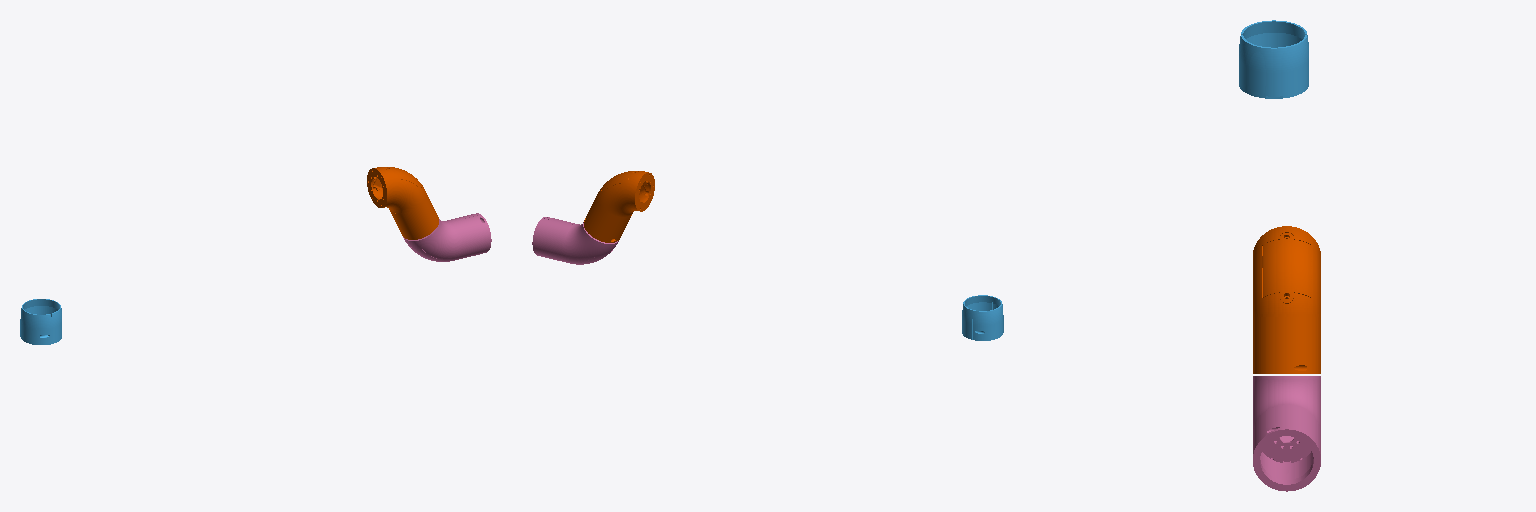
The robot description file, URDF, robot "explorer":
<?xml version="1.0" ?>
<!-- =================================================================================== -->
<!-- |    This document was autogenerated by xacro from description/urdf/explorer.urdf.xacro | -->
<!-- |    EDITING THIS FILE BY HAND IS NOT RECOMMENDED                                 | -->
<!-- =================================================================================== -->
<robot name="explorer">
  <!-- create link fixed to the "world" -->
  <link name="world"/>
  <link name="base_link">
    <visual>
      <origin rpy="0 0 0" xyz="0 0 0"/>
      <geometry>
        <mesh filename="package://ros2_control_explorer/description/meshes/visual/base_link.dae"/>
      </geometry>
    </visual>
    <collision>
      <origin rpy="0 0 0" xyz="0 0 0"/>
      <geometry>
        <mesh filename="package://ros2_control_explorer/description/meshes/collision/base_link.stl"/>
      </geometry>
    </collision>
    <inertial>
      <mass value="1"/>
      <inertia ixx="1.0" ixy="0.0" ixz="0.0" iyy="1.0" iyz="0.0" izz="1.0"/>
    </inertial>
  </link>
  <link name="link_1">
    <visual>
      <origin rpy="0 0 0" xyz="0 0 0"/>
      <geometry>
        <mesh filename="package://ros2_control_explorer/description/meshes/visual/link1.dae"/>
      </geometry>
    </visual>
    <collision>
      <origin rpy="0 0 0" xyz="0 0 0"/>
      <geometry>
        <mesh filename="package://ros2_control_explorer/description/meshes/collision/link1.stl"/>
      </geometry>
    </collision>
    <inertial>
      <mass value="1"/>
      <inertia ixx="1.0" ixy="0.0" ixz="0.0" iyy="1.0" iyz="0.0" izz="1.0"/>
    </inertial>
  </link>
  <link name="link_2">
    <visual>
      <origin rpy="0 0 0" xyz="0 0 0"/>
      <geometry>
        <mesh filename="package://ros2_control_explorer/description/meshes/visual/link2.dae"/>
      </geometry>
    </visual>
    <collision>
      <origin rpy="0 0 0" xyz="0 0 0"/>
      <geometry>
        <mesh filename="package://ros2_control_explorer/description/meshes/collision/link2.stl"/>
      </geometry>
    </collision>
    <inertial>
      <mass value="1"/>
      <inertia ixx="1.0" ixy="0.0" ixz="0.0" iyy="1.0" iyz="0.0" izz="1.0"/>
    </inertial>
  </link>
  <link name="link_3">
    <visual>
      <origin rpy="0 0 0" xyz="0 0 0"/>
      <geometry>
        <mesh filename="package://ros2_control_explorer/description/meshes/visual/link3.dae"/>
      </geometry>
    </visual>
    <collision>
      <origin rpy="0 0 0" xyz="0 0 0"/>
      <geometry>
        <mesh filename="package://ros2_control_explorer/description/meshes/collision/link3.stl"/>
      </geometry>
    </collision>
    <inertial>
      <mass value="1"/>
      <inertia ixx="1.0" ixy="0.0" ixz="0.0" iyy="1.0" iyz="0.0" izz="1.0"/>
    </inertial>
  </link>
  <link name="link_4">
    <visual>
      <origin rpy="0 0 0" xyz="0 0 0"/>
      <geometry>
        <mesh filename="package://ros2_control_explorer/description/meshes/visual/link4_old.dae"/>
      </geometry>
    </visual>
    <collision>
      <origin rpy="0 0 0" xyz="0 0 0"/>
      <geometry>
        <mesh filename="package://ros2_control_explorer/description/meshes/collision/link4_old.stl"/>
      </geometry>
    </collision>
    <inertial>
      <mass value="1"/>
      <inertia ixx="1.0" ixy="0.0" ixz="0.0" iyy="1.0" iyz="0.0" izz="1.0"/>
    </inertial>
  </link>
  <link name="link_5">
    <visual>
      <origin rpy="0 0 0" xyz="0 0 0"/>
      <geometry>
        <mesh filename="package://ros2_control_explorer/description/meshes/visual/link5_old.dae"/>
      </geometry>
    </visual>
    <collision>
      <origin rpy="0 0 0" xyz="0 0 0"/>
      <geometry>
        <mesh filename="package://ros2_control_explorer/description/meshes/collision/link5_old.stl"/>
      </geometry>
    </collision>
    <inertial>
      <mass value="1"/>
      <inertia ixx="1.0" ixy="0.0" ixz="0.0" iyy="1.0" iyz="0.0" izz="1.0"/>
    </inertial>
  </link>
  <link name="link_6">
    <visual>
      <origin rpy="0 0 0" xyz="0 0 0"/>
      <geometry>
        <mesh filename="package://ros2_control_explorer/description/meshes/visual/gripper.dae"/>
      </geometry>
    </visual>
    <collision>
      <origin rpy="0 0 0" xyz="0 0 0"/>
      <geometry>
        <mesh filename="package://ros2_control_explorer/description/meshes/collision/gripper.stl"/>
      </geometry>
    </collision>
    <inertial>
      <mass value="1"/>
      <inertia ixx="1.0" ixy="0.0" ixz="0.0" iyy="1.0" iyz="0.0" izz="1.0"/>
    </inertial>
  </link>
  <link name="ft_frame"/>
  <link name="tool0"/>
  <!-- base_joint fixes base_link to the environment -->
  <joint name="base_joint" type="fixed">
    <parent link="world"/>
    <child link="base_link"/>
    <origin rpy="0 0 0" xyz="0 0 0"/>
    <axis xyz="0 0 1"/>
  </joint>
  <!-- joints - main serial chain -->
  <joint name="joint_1" type="revolute">
    <parent link="base_link"/>
    <child link="link_1"/>
    <origin rpy="0 0 0" xyz="0 0 55.5"/>
    <axis xyz="0 0 1"/>
    <limit effort="1000.0" lower="-3.141592653589793" upper="3.141592653589793" velocity="2.5"/>
  </joint>
  <joint name="joint_2" type="revolute">
    <parent link="link_1"/>
    <child link="link_2"/>
    <origin rpy="1.5707963267948966 0 0" xyz="0 24.5 58.952"/>
    <axis xyz="0 0 1"/>
    <limit effort="1000.0" lower="0" upper="3.141592653589793" velocity="2.5"/>
  </joint>
  <joint name="joint_3" type="revolute">
    <parent link="link_2"/>
    <child link="link_3"/>
    <origin rpy="3.141592653589793 0 0" xyz="409.872 0 -2"/>
    <axis xyz="0 0 1"/>
    <limit effort="1000.0" lower="-3.141592653589793" upper="3.141592653589793" velocity="2.5"/>
  </joint>
  <joint name="joint_4" type="revolute">
    <parent link="link_3"/>
    <child link="link_4"/>
    <origin rpy="0 1.5707963267948966 0" xyz="233.9 0 -14"/>
    <axis xyz="0 0 1"/>
    <limit effort="1000.0" lower="-3.141592653589793" upper="3.141592653589793" velocity="2.5"/>
  </joint>
  <joint name="joint_5" type="revolute">
    <parent link="link_4"/>
    <child link="link_5"/>
    <origin rpy="1.1344640137963142 0 3.141592653589793" xyz="0 90 83"/>
    <axis xyz="0 0 1"/>
    <limit effort="1000.0" lower="-3.141592653589793" upper="3.141592653589793" velocity="2.5"/>
  </joint>
  <joint name="joint_6" type="revolute">
    <parent link="link_5"/>
    <child link="link_6"/>
    <origin rpy="-1.1344640137963142 0 0" xyz="0 90 83"/>
    <axis xyz="0 0 1"/>
    <limit effort="1000.0" lower="-3.141592653589793" upper="3.141592653589793" velocity="2.5"/>
  </joint>
  <joint name="joint-ft_frame" type="fixed">
    <parent link="link_6"/>
    <child link="ft_frame"/>
    <origin rpy="0 0 0" xyz="0 0 0"/>
  </joint>
  <joint name="joint-tool" type="fixed">
    <parent link="ft_frame"/>
    <child link="tool0"/>
    <origin rpy="0 0 0" xyz="0 0 0"/>
  </joint>
  <ros2_control name="explorer" type="system">
    <hardware>
      <plugin>ros2_control_explorer/RobotSystem</plugin>
    </hardware>
    <joint name="joint_1">
      <command_interface name="position">
        <param name="min">{-2*pi}</param>
        <param name="max">{2*pi}</param>
      </command_interface>
      <command_interface name="velocity">
        <param name="min">-3.15</param>
        <param name="max">3.15</param>
      </command_interface>
      <state_interface name="position">
        <param name="initial_value">0.0</param>
      </state_interface>
      <state_interface name="velocity"/>
    </joint>
    <joint name="joint_2">
      <command_interface name="position">
        <param name="min">{-2*pi}</param>
        <param name="max">{2*pi}</param>
      </command_interface>
      <command_interface name="velocity">
        <param name="min">-3.15</param>
        <param name="max">3.15</param>
      </command_interface>
      <state_interface name="position">
        <param name="initial_value">0.0</param>
      </state_interface>
      <state_interface name="velocity"/>
    </joint>
    <joint name="joint_3">
      <command_interface name="position">
        <param name="min">{-pi}</param>
        <param name="max">{pi}</param>
      </command_interface>
      <command_interface name="velocity">
        <param name="min">-3.15</param>
        <param name="max">3.15</param>
      </command_interface>
      <state_interface name="position">
        <param name="initial_value">0.0</param>
      </state_interface>
      <state_interface name="velocity"/>
    </joint>
    <joint name="joint_4">
      <command_interface name="position">
        <param name="min">{-2*pi}</param>
        <param name="max">{2*pi}</param>
      </command_interface>
      <command_interface name="velocity">
        <param name="min">-3.2</param>
        <param name="max">3.2</param>
      </command_interface>
      <state_interface name="position">
        <param name="initial_value">0.0</param>
      </state_interface>
      <state_interface name="velocity"/>
    </joint>
    <joint name="joint_5">
      <command_interface name="position">
        <param name="min">{-2*pi}</param>
        <param name="max">{2*pi}</param>
      </command_interface>
      <command_interface name="velocity">
        <param name="min">-3.2</param>
        <param name="max">3.2</param>
      </command_interface>
      <state_interface name="position">
        <param name="initial_value">0.0</param>
      </state_interface>
      <state_interface name="velocity"/>
    </joint>
    <joint name="joint_6">
      <command_interface name="position">
        <param name="min">{-2*pi}</param>
        <param name="max">{2*pi}</param>
      </command_interface>
      <command_interface name="velocity">
        <param name="min">-3.2</param>
        <param name="max">3.2</param>
      </command_interface>
      <state_interface name="position">
        <param name="initial_value">0.0</param>
      </state_interface>
      <state_interface name="velocity"/>
    </joint>
    <sensor name="tcp_fts_sensor">
      <state_interface name="force.x"/>
      <state_interface name="force.y"/>
      <state_interface name="force.z"/>
      <state_interface name="torque.x"/>
      <state_interface name="torque.y"/>
      <state_interface name="torque.z"/>
    </sensor>
  </ros2_control>
</robot>

--- What the picture shows (computed from the rendered views, not written in the file) ---
The picture shows the robot from 3 angles, left to right: view 1: azimuth 30°, elevation 25°; view 2: azimuth 150°, elevation 25°; view 3: azimuth 270°, elevation 25°; orthographic projection.
Robot: explorer — 10 links, 9 joints (6 revolute, 3 fixed); root link world; default pose: all joints at 0.
Visible links, largest first — view 1: link_4, link_5, base_link; view 2: link_4, link_5, base_link; view 3: link_4, link_5, base_link.
Link boxes in pixels (<box>): link_4: <box>367,167,438,239</box>; link_5: <box>403,213,491,261</box>; base_link: <box>20,299,61,344</box>; link_4: <box>584,171,654,242</box>; link_5: <box>532,217,618,264</box>; base_link: <box>962,295,1003,340</box>; link_4: <box>1253,226,1320,373</box>; link_5: <box>1253,376,1320,491</box>; base_link: <box>1239,20,1308,98</box>.
Size in the robot's own frame: 876 by 80.5 by 194 metres.
3 mesh visuals loaded from 7 distinct referenced files (3 Collada DAE); not drawn: 4 (reference not matched to a file when rendering).